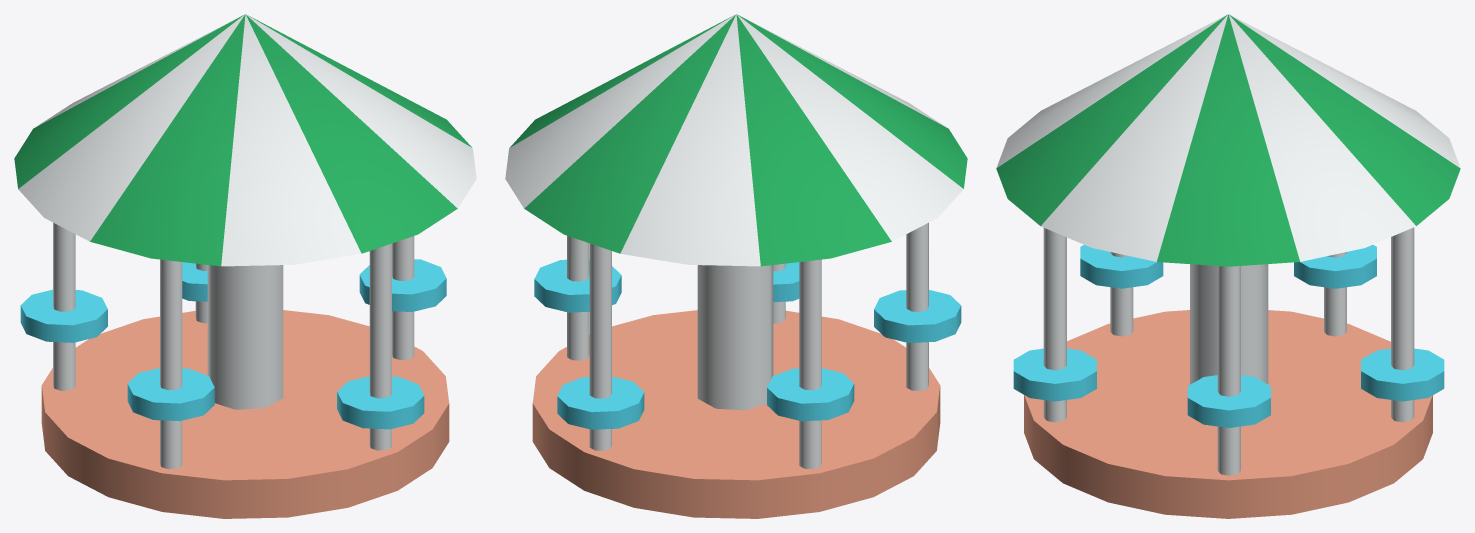
File: carousel01_s02.FBX
3 renders of one model, left to right at view 1: azimuth 30°, elevation 25°; view 2: azimuth 150°, elevation 25°; view 3: azimuth 270°, elevation 25°, orthographic.
Parts seen in each view (by area): view 1: carousel01_s02; view 2: carousel01_s02; view 3: carousel01_s02.
Boxes of the visible parts, left/top/right/bottom form: carousel01_s02: left=14, top=14, right=476, bottom=518; carousel01_s02: left=505, top=14, right=967, bottom=518; carousel01_s02: left=996, top=14, right=1460, bottom=518.
Size of the model in its own units: 389 by 389 by 387.
1 material, 1 textured.
